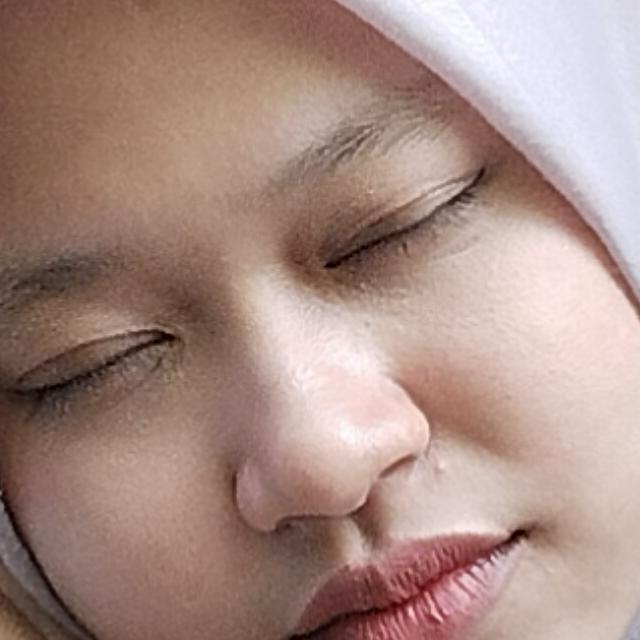tidur: (0, 298, 566, 640)
